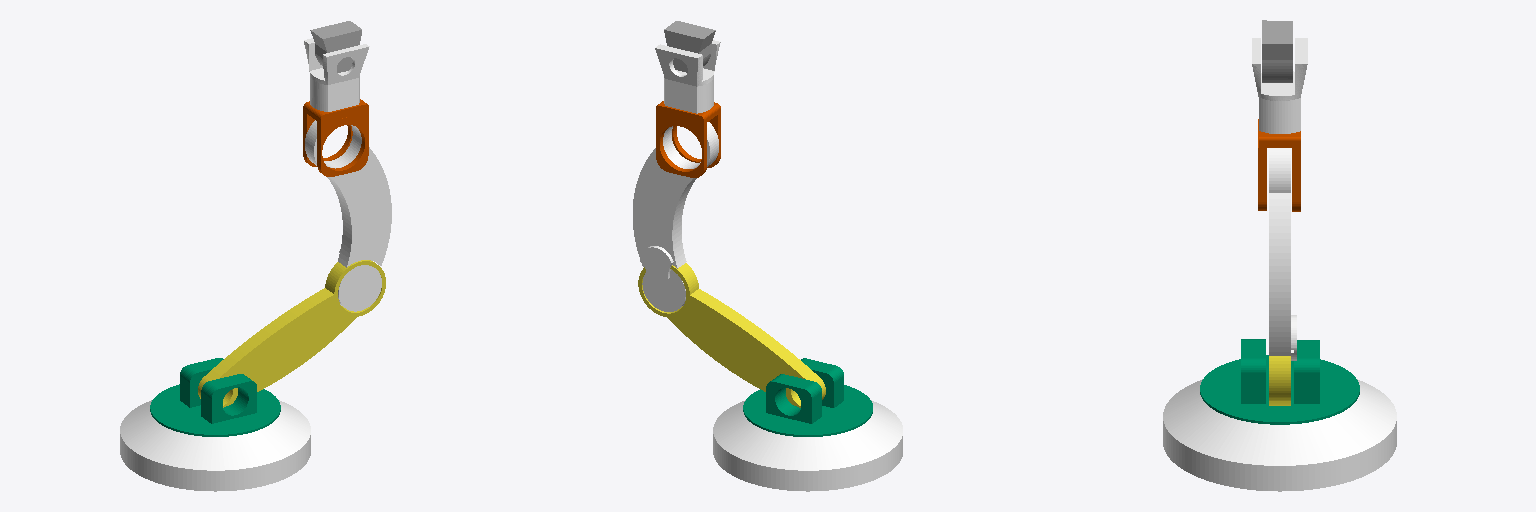
URDF robot description (bazu):
<robot name="bazu">
    <link name="world"/>
    <joint name="base_joint" type="fixed">
        <parent link="world"/>
        <child link="base"/>
      </joint>

    <link name="base">
        <inertial>
          <mass value="20"/>
          <inertia ixx="3" ixy="0" ixz="0" iyy="3" iyz="0" izz="0.3" />
          <origin/>
        </inertial>
    
        <visual>
        <geometry>
        <mesh filename="package://bazu/base.stl"  />   
            </geometry>
          <material name="white">
            <color rgba="1 1 1 1"/>
          </material>
        </visual>
    
        <collision>
          <geometry>
            <mesh filename="package://bazu/base.stl"  />   
          </geometry>
        </collision>
      </link>
  
     




  
    <link name="link_1">
        <inertial>
          <mass value="4"/>
          <inertia ixx="1" ixy="0" ixz="0" iyy="2.5" iyz="0" izz="0.5" />
          <origin/>
        </inertial>
    
        <visual>
          <geometry>
            <mesh filename="package://bazu/joint_1.stl"  />
          </geometry>
          <material name="black">
          </material>
        </visual>
  
        <collision>
          <geometry>
            <mesh filename="package://bazu/joint_1.stl"  />
          </geometry>
          <contact_coefficients mu="0" kp="1000.0" kd="1.0"/>
        </collision>
  
      </link>
  
      <joint name="joint_1" type="continuous">
        <parent link="base"/>
        <child link="link_1"/>
        <origin xyz="0 0 0.5" rpy="0 0.0 0.0"/>
        <axis xyz=" 0 0 1"/>
      </joint>
  
  
      <link name="link_2">
        <inertial>
          <mass value="2"/>
          <inertia ixx="1" ixy="0" ixz="0" iyy="2.5" iyz="0" izz="0.5" />
          <origin/>
        </inertial>
    
        <visual>
          <geometry>
            <mesh filename="package://bazu/joint_2.stl"  />
          </geometry>
          <material name="black">
          </material>
        </visual>
  
        <collision>
          <geometry>
            <mesh filename="package://bazu/joint_2.stl"  />
          </geometry>
          <contact_coefficients mu="0" kp="1000.0" kd="1.0"/>
        </collision>
  
      </link>
  
      <joint name="joint_2" type="revolute">
        <limit effort="1000.0"  lower='-2.6' upper='0.22'  velocity="0.5"/>
        
        <parent link="link_1"/>
        <child link="link_2"/>
        <origin xyz="0 0 0.2" rpy="0 0.0 0.0"/>
        <axis xyz=" 0 1 0"/>
        
         
      </joint>
  
  
      <link name="link_3">
        <inertial>
          <mass value="2"/>
          <inertia ixx="1" ixy="0" ixz="0" iyy="2.5" iyz="0" izz="0.5" />
          <origin/>
        </inertial>
    
        <visual>
          <geometry>
            <mesh filename="package://bazu/joint_3.stl"  />
          </geometry>
          <material name="white">
          </material>
        </visual>
  
        <collision>
          <geometry>
            <mesh filename="package://bazu/joint_3.stl"  />
          </geometry>
          <contact_coefficients mu="0" kp="1000.0" kd="1.0"/>
        </collision>
  
      </link>
  
      <joint name="joint_3" type="revolute">
        <parent link="link_2"/>
        <child link="link_3"/>
        <origin xyz="1.7 0 0.82" rpy="0 0.0 0.0"/>
        <axis xyz=" 0 1 0"/>
        <limit effort="1000.0"  lower='-0.9' upper='2.22' velocity="0.5"/>
          
      </joint>
  
  
  
      <link name="link_4">
        <inertial>
          <mass value="1"/>
          <inertia ixx="1" ixy="0" ixz="0" iyy="2.5" iyz="0" izz="0.5" />
          <origin/>
        </inertial>
    
        <visual>
          <geometry>
            <mesh filename="package://bazu/joint_4.stl"  />
          </geometry>
          <material name="black">
          </material>
        </visual>
  
        <collision>
          <geometry>
            <mesh filename="package://bazu/joint_4.stl"  />
          </geometry>
          <contact_coefficients mu="0" kp="1000.0" kd="1.0"/>
        </collision>
  
      </link>
  
      <joint name="joint_4" type="revolute">
        <parent link="link_3"/>
        <child link="link_4"/>
        <origin xyz="-0.25 0 1.73" rpy="0 0.0 0.0"/>
        <axis xyz=" 0 1 0"/>
        <limit effort="1000.0"   lower='-1.65' upper='1.17'  velocity="0.5"/>
        
      </joint>
  
  
  
  
      <link name="link_5">
        <inertial>
          <mass value="2"/>
          <inertia ixx="1" ixy="0" ixz="0" iyy="2.5" iyz="0" izz="0.5" />
          <origin/>
        </inertial>
    
        <visual>
          <geometry>
            <mesh filename="package://bazu/joint_5.stl"  />
          </geometry>
          <material name="white">
          </material>
        </visual>
  
        <collision>
          <geometry>
            <mesh filename="package://bazu/joint_5.stl"  />
          </geometry>
          <contact_coefficients mu="0" kp="1000.0" kd="1.0"/>
        </collision>
  
      </link>
  
      <joint name="joint_5" type="continuous">
        <parent link="link_4"/>
        <child link="link_5"/>
        <origin xyz="0 0 0.45" rpy="0 0.0 0.0"/>
        <axis xyz=" 0 0 1"/>
      </joint>
  
  
  
  
      <link name="link_6">
        <inertial>
          <mass value="1"/>
          <inertia ixx="1" ixy="0" ixz="0" iyy="2.5" iyz="0" izz="0.5" />
          <origin/>
        </inertial>
    
        <visual>
          <geometry>
            <mesh filename="package://bazu/joint_6.stl"  />
          </geometry>
          <material name="black">
          </material>
        </visual>
  
        <collision>
          <geometry>
            <mesh filename="package://bazu/joint_6.stl"  />
          </geometry>
          <contact_coefficients mu="0" kp="1000.0" kd="1.0"/>
        </collision>
  
      </link>
  
      <joint name="joint_6" type="revolute">
        <parent link="link_5"/>
        <child link="link_6"/>
        <origin xyz="0 -0.02 0.55" rpy="0 0.0 0.0"/>
        <axis xyz=" 0 1 0"/>
        <limit effort="1000.0"  lower='-1.14' upper='0.73' velocity="0.5"/>
        
        
      </joint>  

<!-- 
  
  <gazebo reference="base">
  <material>Gazebo/Black</material>
  </gazebo>
  <gazebo reference="link_1">
  <material>Gazebo/White</material>
  </gazebo>
  <gazebo reference="link_2">
  <material>Gazebo/Orange</material>
  </gazebo>
  <gazebo reference="link_3">
  <material>Gazebo/Black</material>
  </gazebo>
  <gazebo reference="link_4">
  <material>Gazebo/Blue</material>
  </gazebo> 
  <gazebo reference="link_5">
    <material>Gazebo/White</material>
  </gazebo> 
  <gazebo reference="link_6">
    <material>Gazebo/Orange</material>
  </gazebo> 
   -->
  
  </robot>
  

--- Facts derived from the render (not from the file) ---
Views: 3 orthographic renders of the robot side by side, from view 1: azimuth 30°, elevation 25°; view 2: azimuth 150°, elevation 25°; view 3: azimuth 270°, elevation 25°.
Model bazu with 8 links and 7 joints (4 revolute, 2 continuous, 1 fixed), rooted at world, posed every joint at zero.
Visible links, largest first — view 1: base, link_2, link_3, link_1, link_5, link_4, link_6; view 2: base, link_2, link_3, link_1, link_5, link_4, link_6; view 3: base, link_1, link_3, link_5, link_6, link_4, link_2.
Boxes of the visible links, bbox=[...] form: base: bbox=[120, 400, 310, 491]; link_2: bbox=[198, 260, 385, 407]; link_3: bbox=[305, 120, 391, 311]; link_1: bbox=[150, 358, 280, 436]; link_5: bbox=[304, 38, 369, 111]; link_4: bbox=[303, 99, 368, 176]; link_6: bbox=[310, 21, 361, 72]; base: bbox=[713, 400, 902, 491]; link_2: bbox=[638, 263, 825, 407]; link_3: bbox=[633, 122, 718, 311]; link_1: bbox=[743, 358, 872, 436]; link_5: bbox=[655, 40, 720, 113]; link_4: bbox=[656, 101, 720, 177]; link_6: bbox=[664, 21, 715, 72]; base: bbox=[1163, 379, 1396, 491]; link_1: bbox=[1200, 339, 1359, 424]; link_3: bbox=[1269, 148, 1296, 360]; link_5: bbox=[1252, 38, 1307, 133]; link_6: bbox=[1262, 20, 1292, 82]; link_4: bbox=[1258, 119, 1300, 211]; link_2: bbox=[1269, 356, 1290, 405].
Size in the robot's own frame: 3.08 by 2 by 4.55 metres.
Meshes: 7 distinct files referenced, 7 mesh visuals loaded (7 binary STL).
